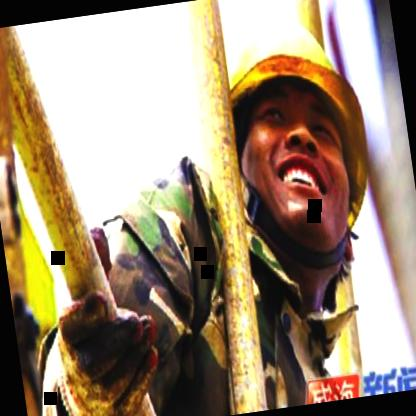helmet: (200, 0, 394, 291)
